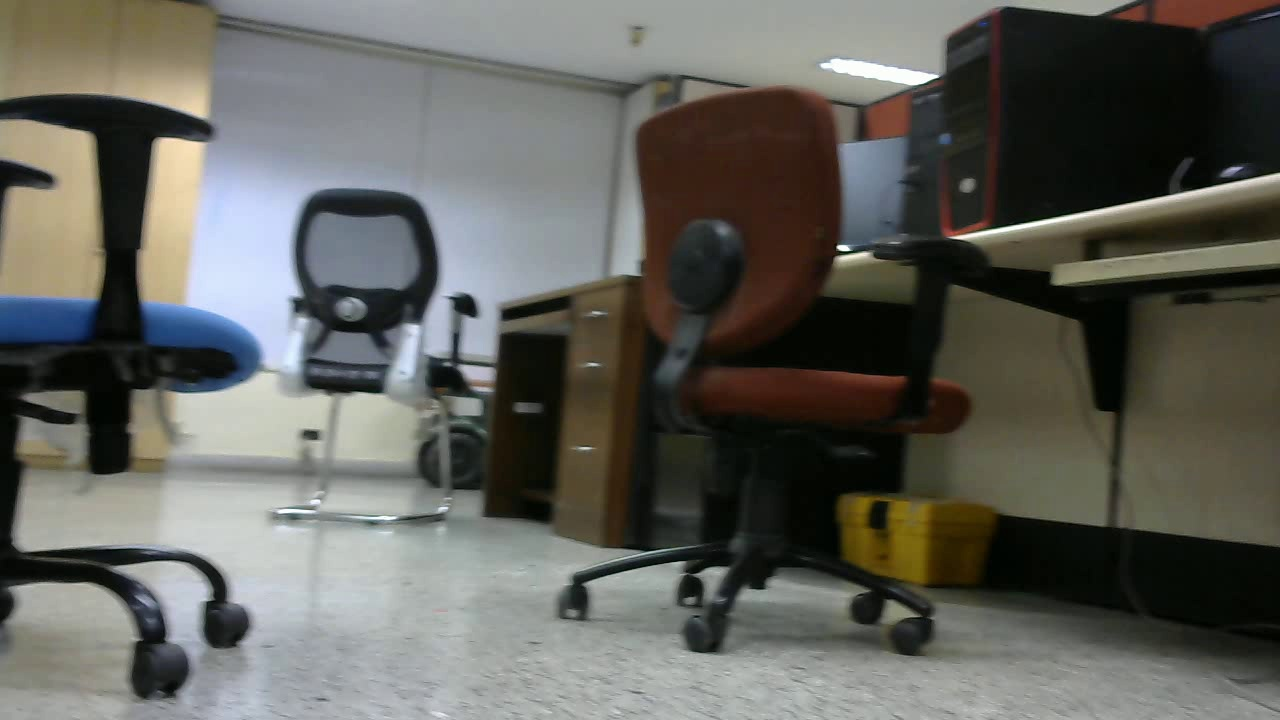chair: (601, 91, 928, 640), (296, 187, 471, 516)
